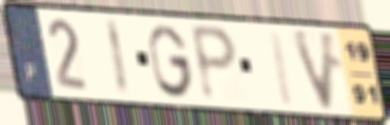2: (47, 16, 90, 93)
G: (146, 21, 197, 100)
I: (266, 27, 297, 109), (102, 17, 132, 98)
P: (188, 21, 241, 105)
V: (287, 26, 339, 114)
